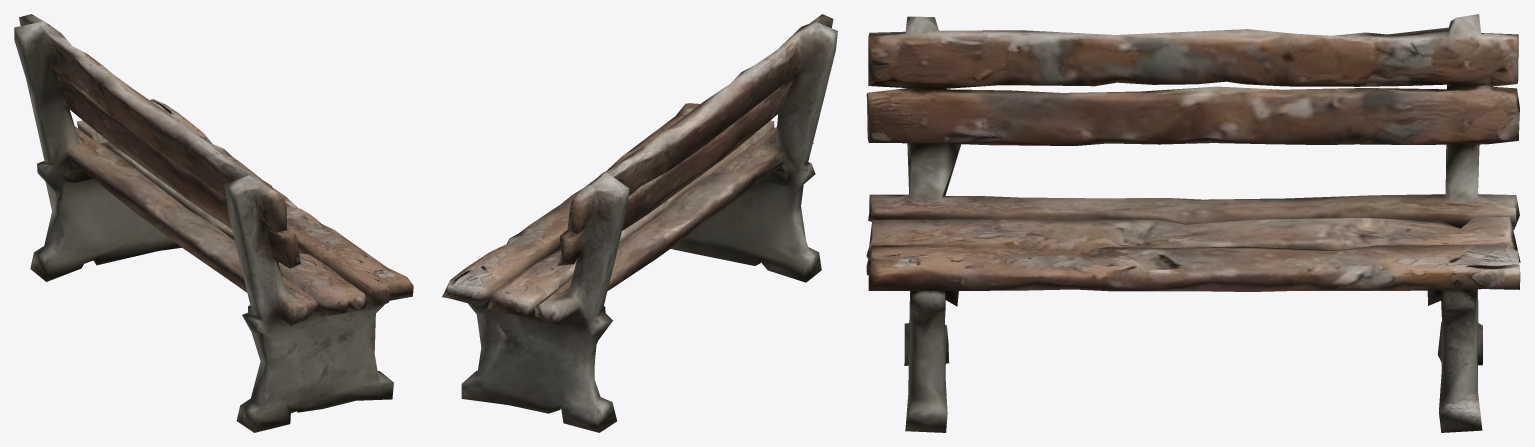
Rendered from e_bench.glb.
3 views of the same model, side by side, from view 1: azimuth 30°, elevation 25°; view 2: azimuth 150°, elevation 25°; view 3: azimuth 270°, elevation 25° (orthographic). The views are drawn at different scales.
Parts seen in each view (by area): view 1: tripo_node_56f6221b-ebe9-4451-b4fd-edf61e5194a1; view 2: tripo_node_56f6221b-ebe9-4451-b4fd-edf61e5194a1; view 3: tripo_node_56f6221b-ebe9-4451-b4fd-edf61e5194a1.
Part boxes in pixels (x1,y1,x2,y2): tripo_node_56f6221b-ebe9-4451-b4fd-edf61e5194a1: [14, 14, 413, 432]; tripo_node_56f6221b-ebe9-4451-b4fd-edf61e5194a1: [442, 14, 837, 432]; tripo_node_56f6221b-ebe9-4451-b4fd-edf61e5194a1: [866, 14, 1520, 432].
Size of the model in its own units: 0.3731 by 0.5545 by 1.
1 material, 1 textured.
